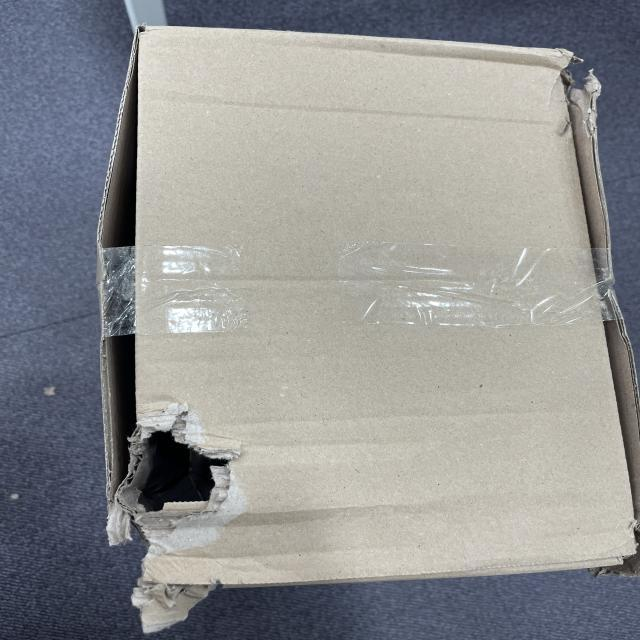hole: (105, 406, 247, 546)
